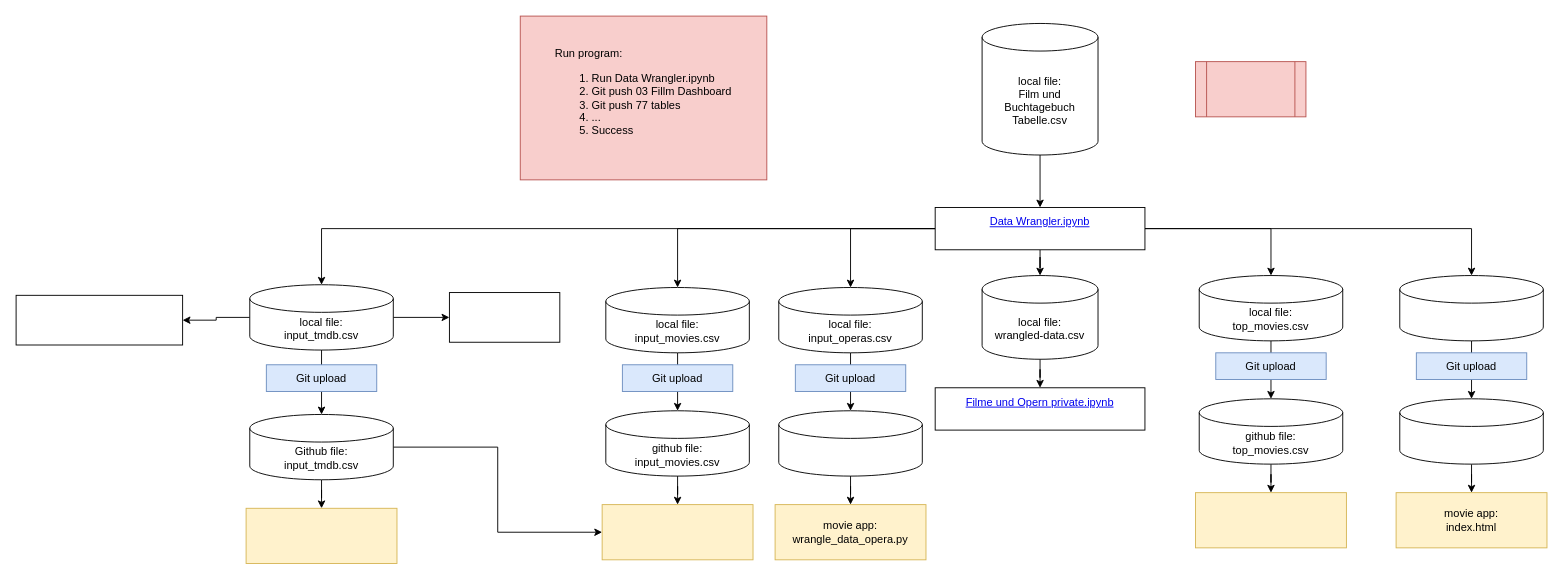
This 1563x580 diagram has some shape labels left out. Each missing label, with the centre of its shape:
"github file: input_operas.csv" goes at [850,443].
"github file: recent_movies.csv" goes at [1471,431].
"local file: recent_movies.csv" goes at [1471,308].
"Manual input" goes at [1250,89].
"movie app: recommender.html" goes at [1270,520].
"movie app: wrangle_data_movies.py" goes at [677,532].
"movie app: wrangle_data_tmdb.py" goes at [321,535].
"Movie Recommender.ipynb" goes at [99,319].
"tmdbmatch.ipynb" goes at [504,317].
